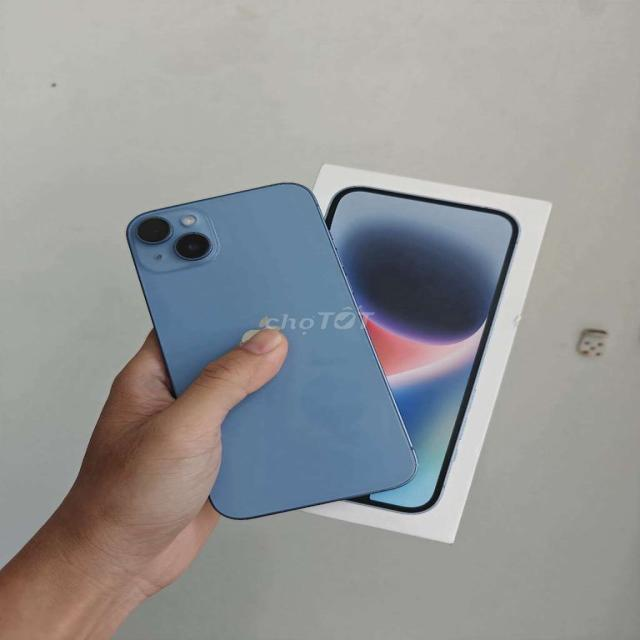gen_14: (116, 177, 420, 537)
